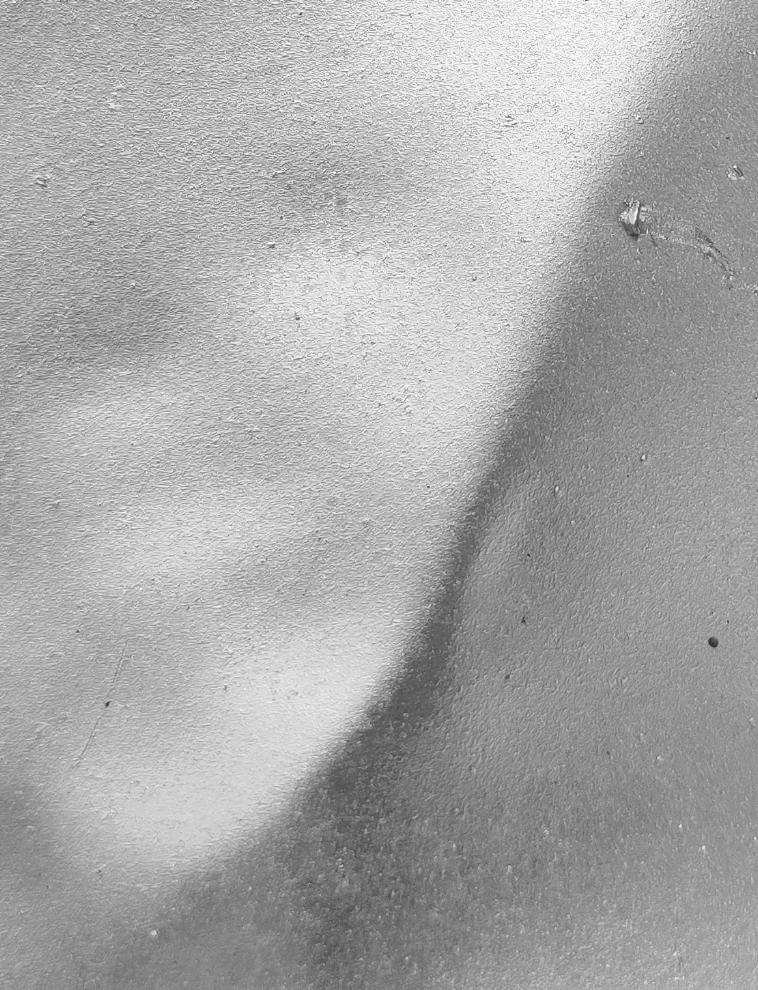dent: (1, 0, 758, 989)
